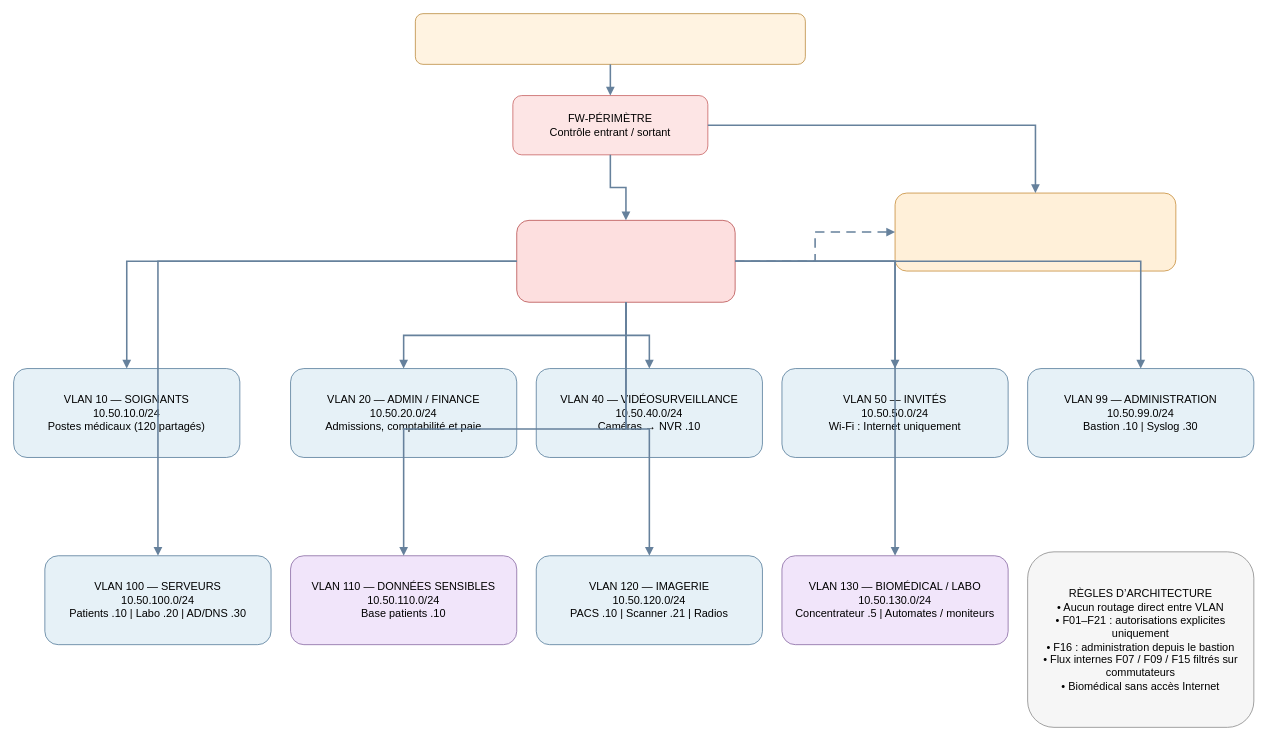
The diagram is 1268 pixels wide and 741 high, and some of its shapes have lost their labels. Each missing label, with the centre of its shape:
"FW-INT Filtrage interzones — DENY + LOG Passerelles 10.50.VLAN.1" goes at point (625, 261).
"INTERNET / CHU de Yaoundé / prestataire" goes at point (610, 38).
"VLAN 210 — DMZ PARTENAIRES 10.50.210.0/24 Télémédecine .10 | Bastion tiers .20" goes at point (1035, 231).
